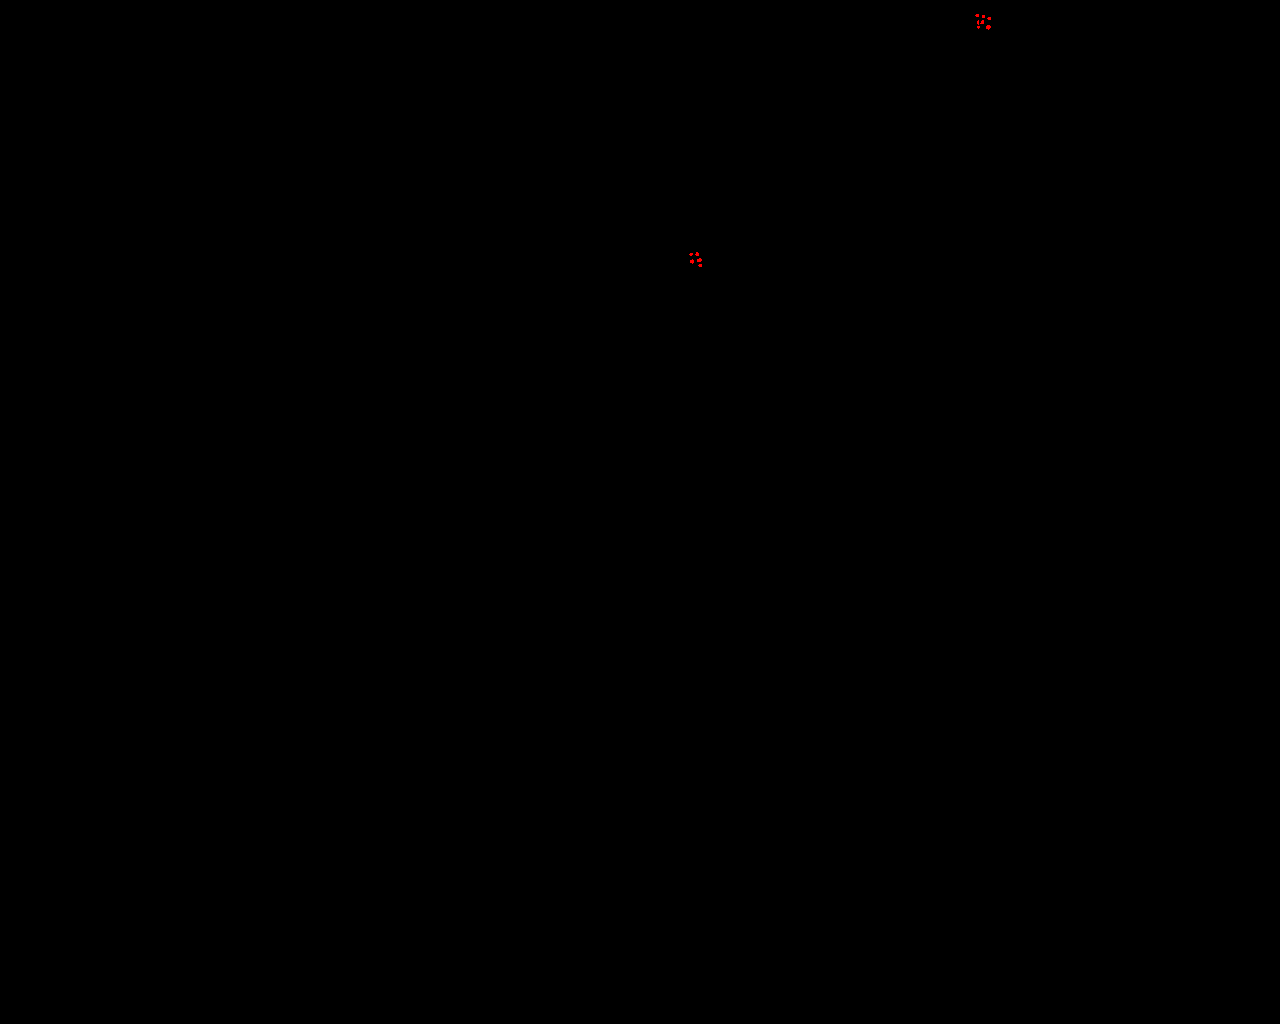Target: (986, 25, 991, 30), (697, 258, 702, 262), (690, 259, 694, 264), (980, 20, 984, 24), (695, 252, 699, 256), (975, 14, 979, 17), (689, 253, 693, 256), (698, 264, 702, 267), (977, 20, 979, 25), (982, 15, 985, 18), (987, 17, 991, 20), (977, 26, 980, 29)
